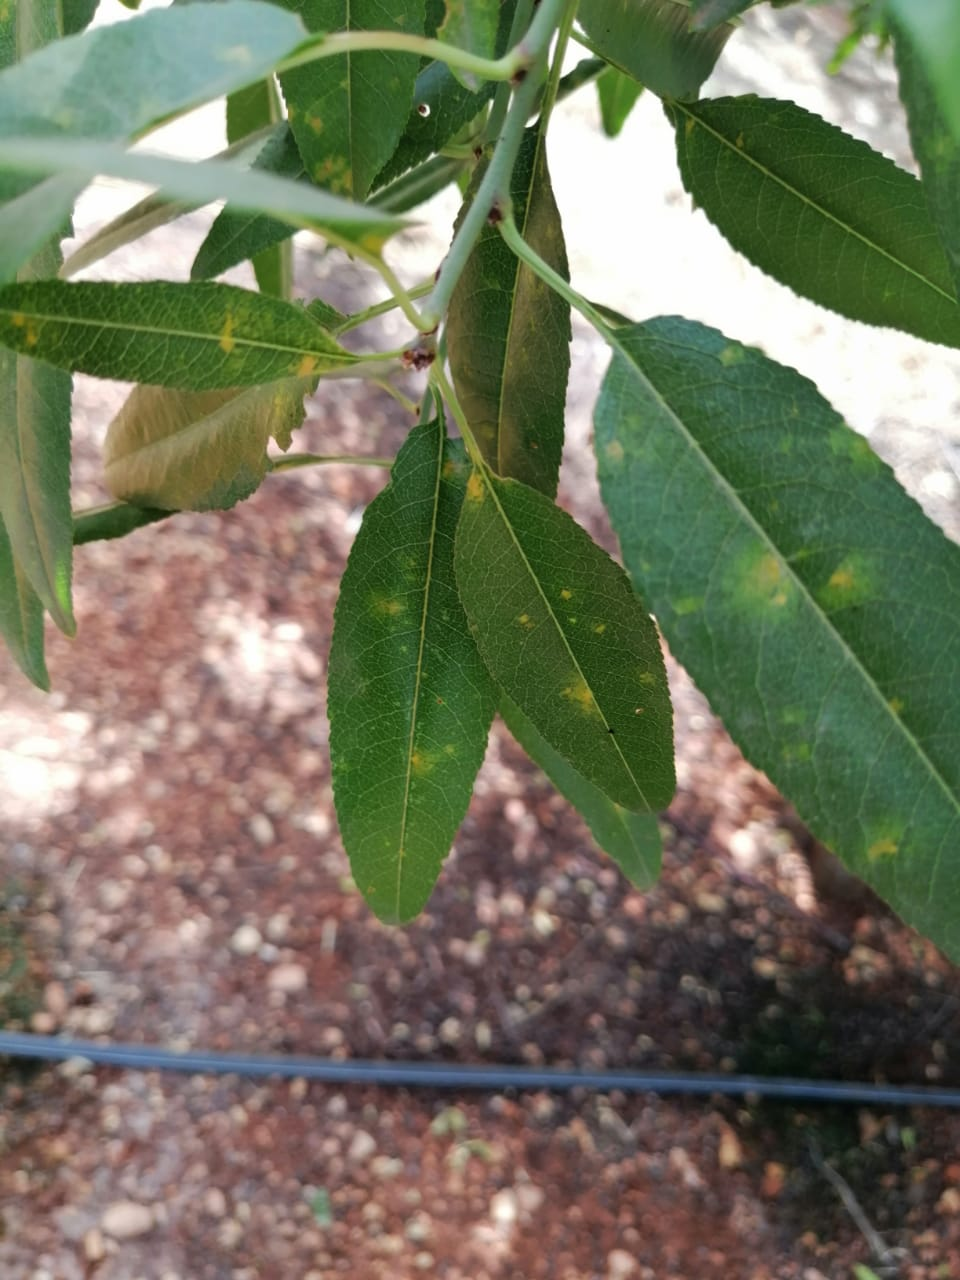polystigma: (328, 415, 501, 929), (453, 465, 680, 815), (1, 277, 357, 391)
